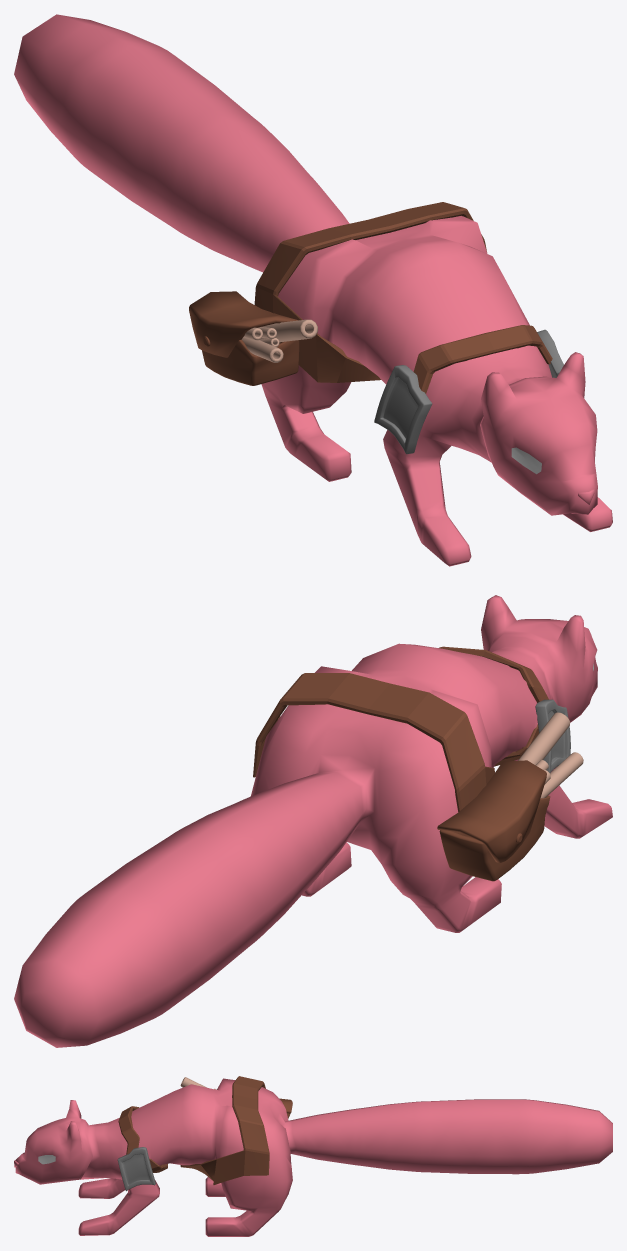
Rendered from Squirell_Main.fbx.
3 renders of one model, top to bottom at view 1: azimuth 30°, elevation 25°; view 2: azimuth 150°, elevation 25°; view 3: azimuth 270°, elevation 25°, orthographic. The views are drawn at different scales.
Visible parts, largest first — view 1: Squirell_Main; view 2: Squirell_Main; view 3: Squirell_Main.
Boxes of the visible parts, x1,y1,x2,y2 form: Squirell_Main: (14,14,612,566); Squirell_Main: (14,595,612,1047); Squirell_Main: (14,1076,612,1236).
Size of the model in its own units: 145 by 518 by 119.
